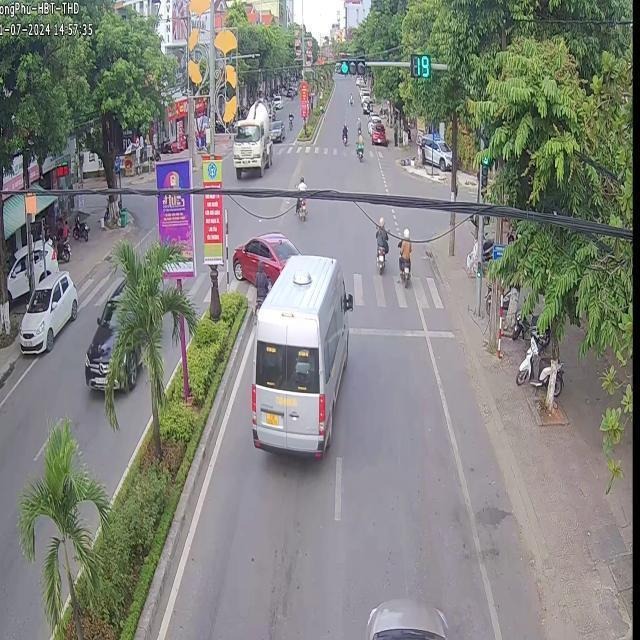car: (249, 254, 352, 456)
green_light: (334, 56, 364, 74), (479, 156, 487, 185)
motobike: (232, 231, 297, 282), (253, 260, 269, 311), (374, 216, 387, 271), (397, 227, 409, 285)
stop_line: (346, 323, 455, 336)
